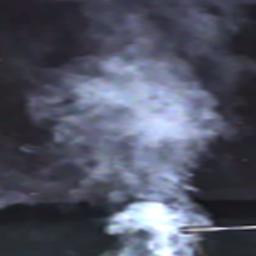smoke: (8, 0, 228, 255)
